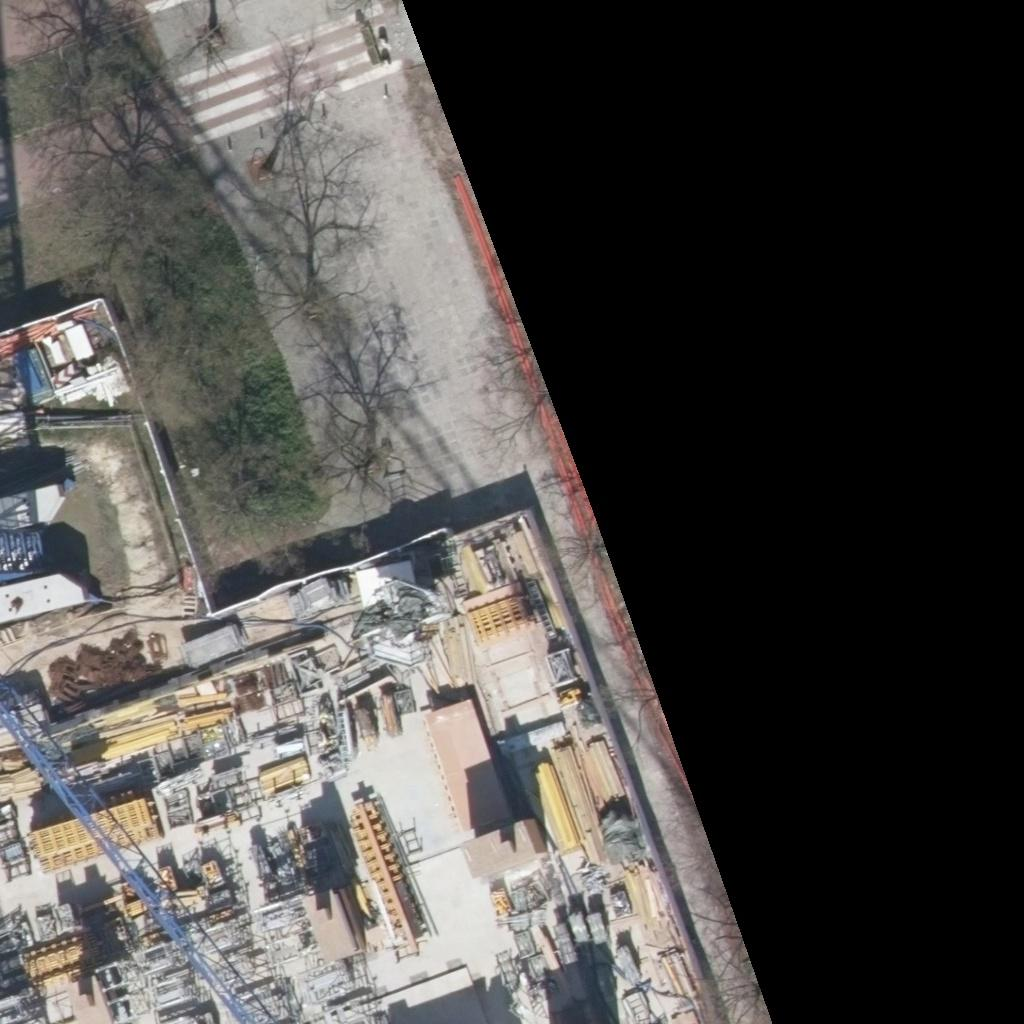zuraw_wiezowy: (0, 677, 268, 1023)
